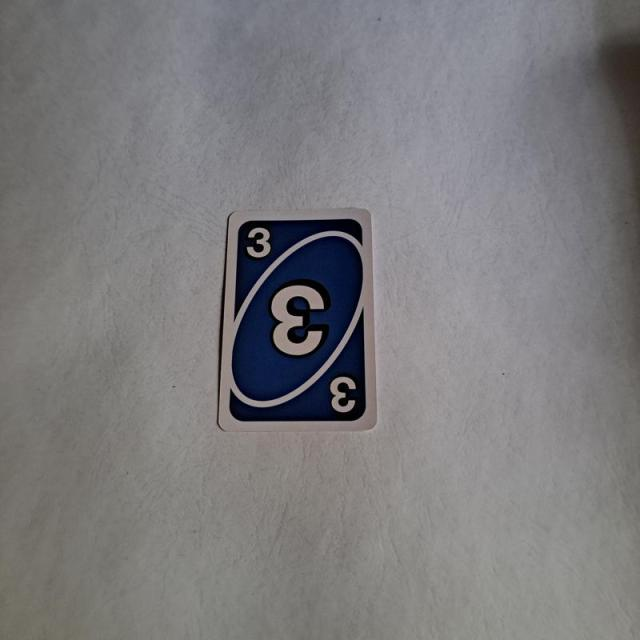Blue_Card: (227, 212, 370, 428)
Number_3: (243, 226, 275, 260)
